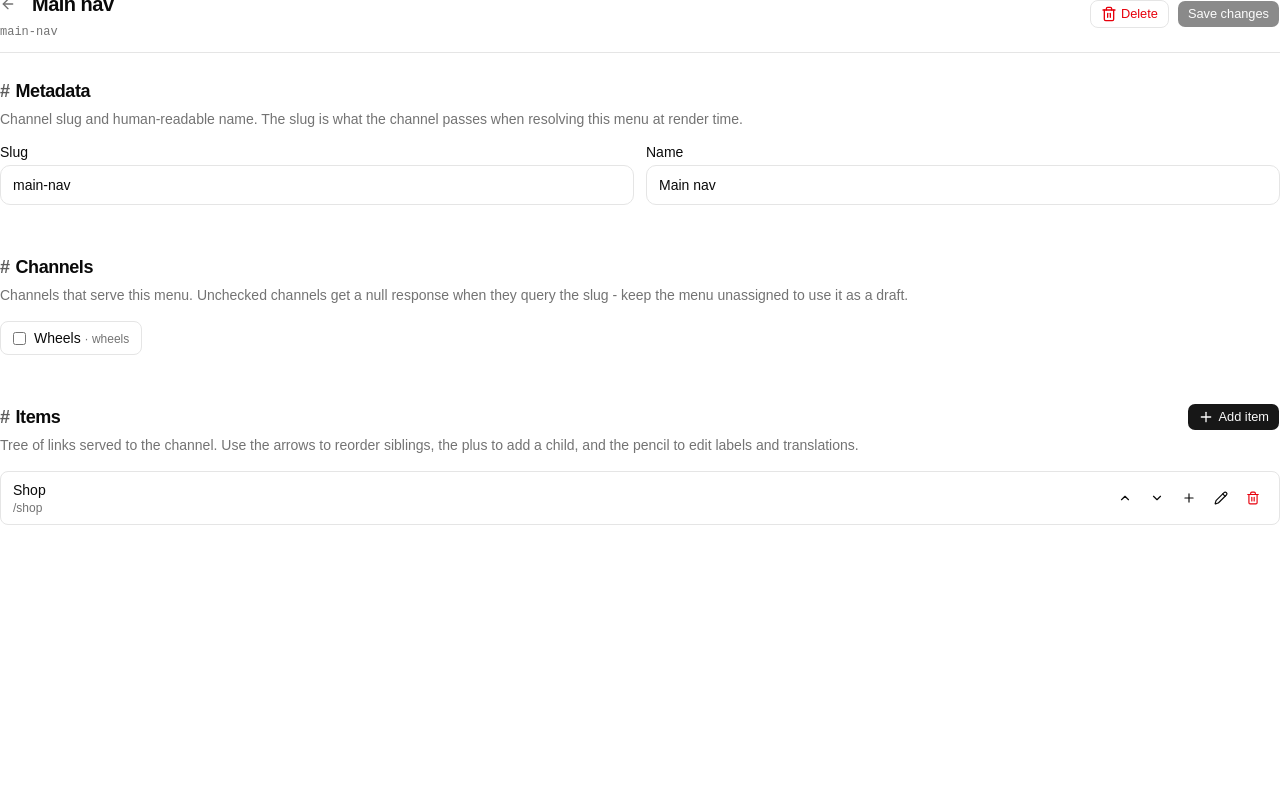
Test: MenuDetail deletes › closes an item delete at once and sends it
Expected: the text "Shop" is shown, x1=13 y1=482 x2=46 y2=498
Click the button named "Delete".
click(1253, 498)  # box x1=1239 y1=484 x2=1267 y2=512
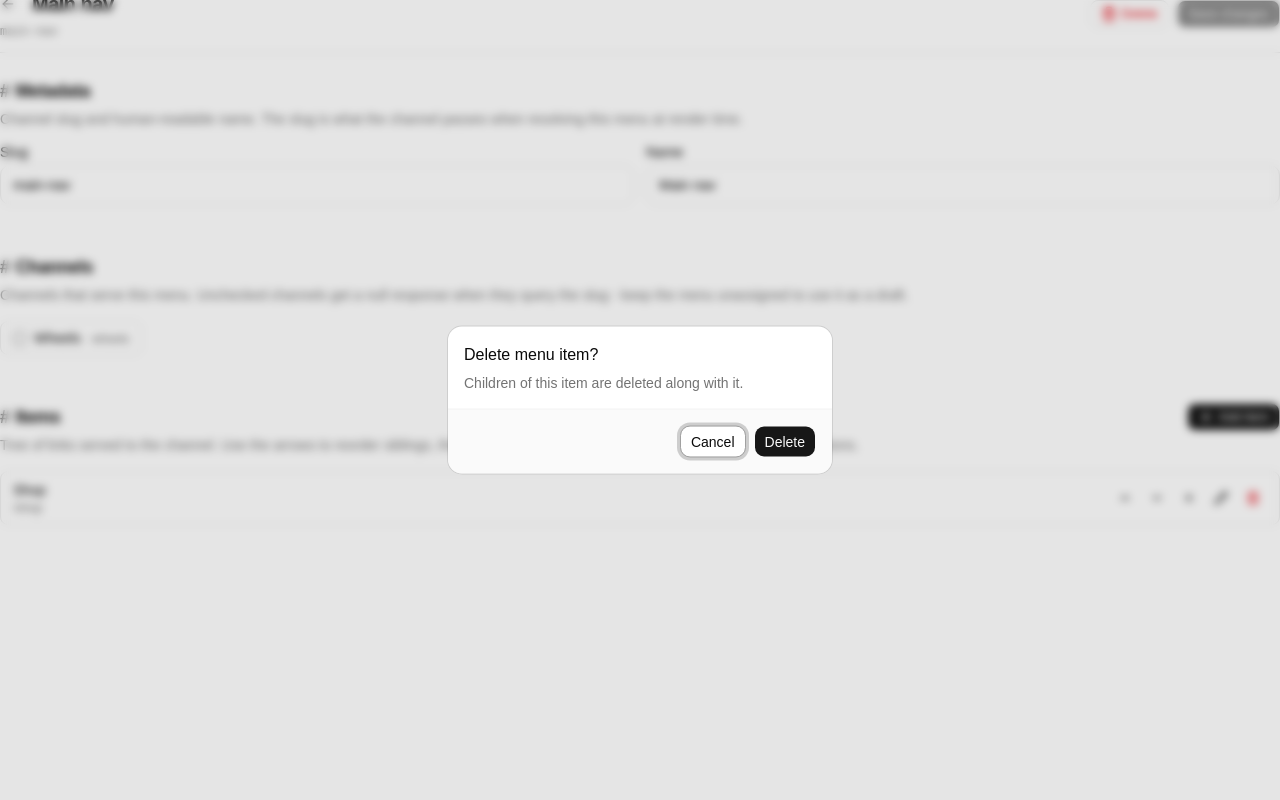
Click the button "Delete".
click(785, 442)  # box x1=754 y1=426 x2=816 y2=458
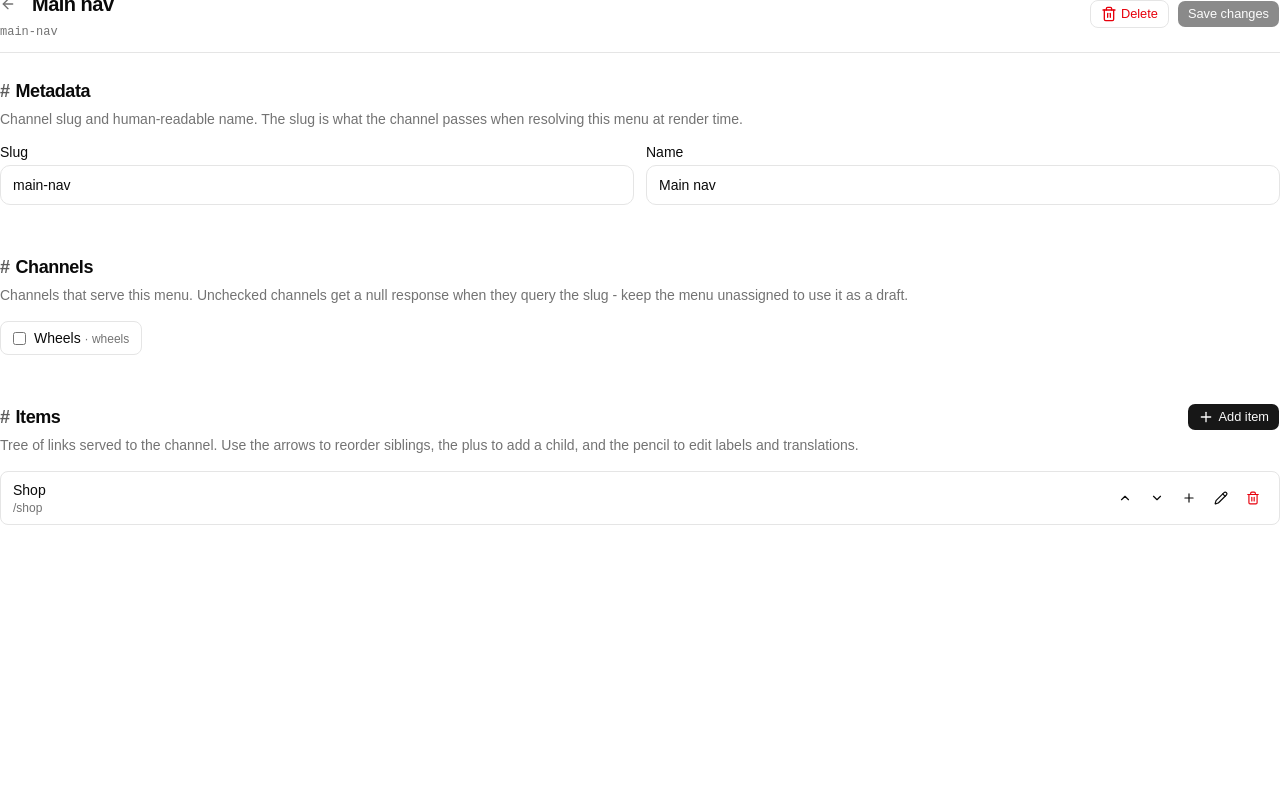
Result: the dialog is gone
